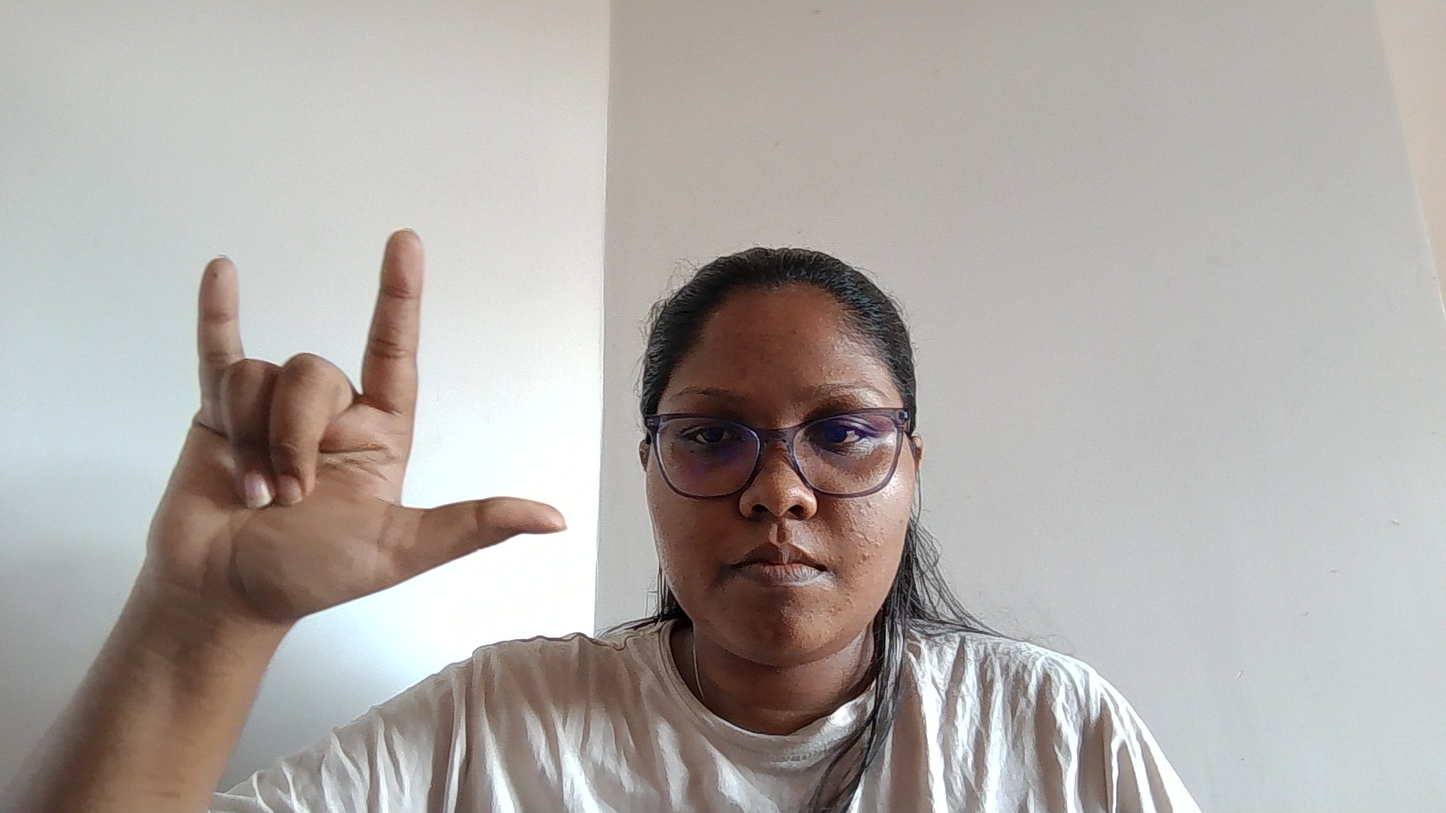I Love You: (149, 221, 639, 727)
